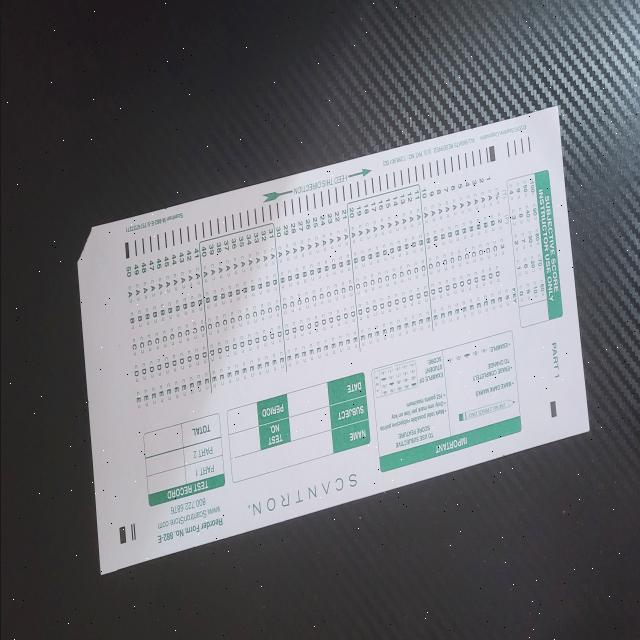scantron: (76, 106, 589, 575)
